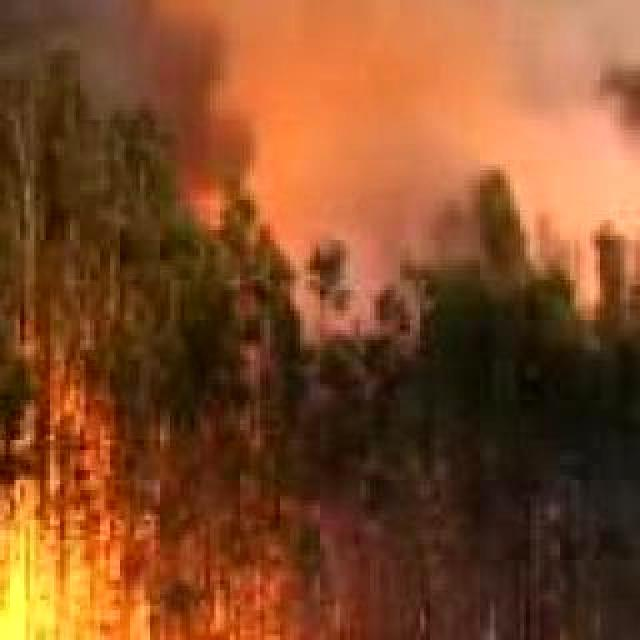fire: (0, 464, 326, 640)
